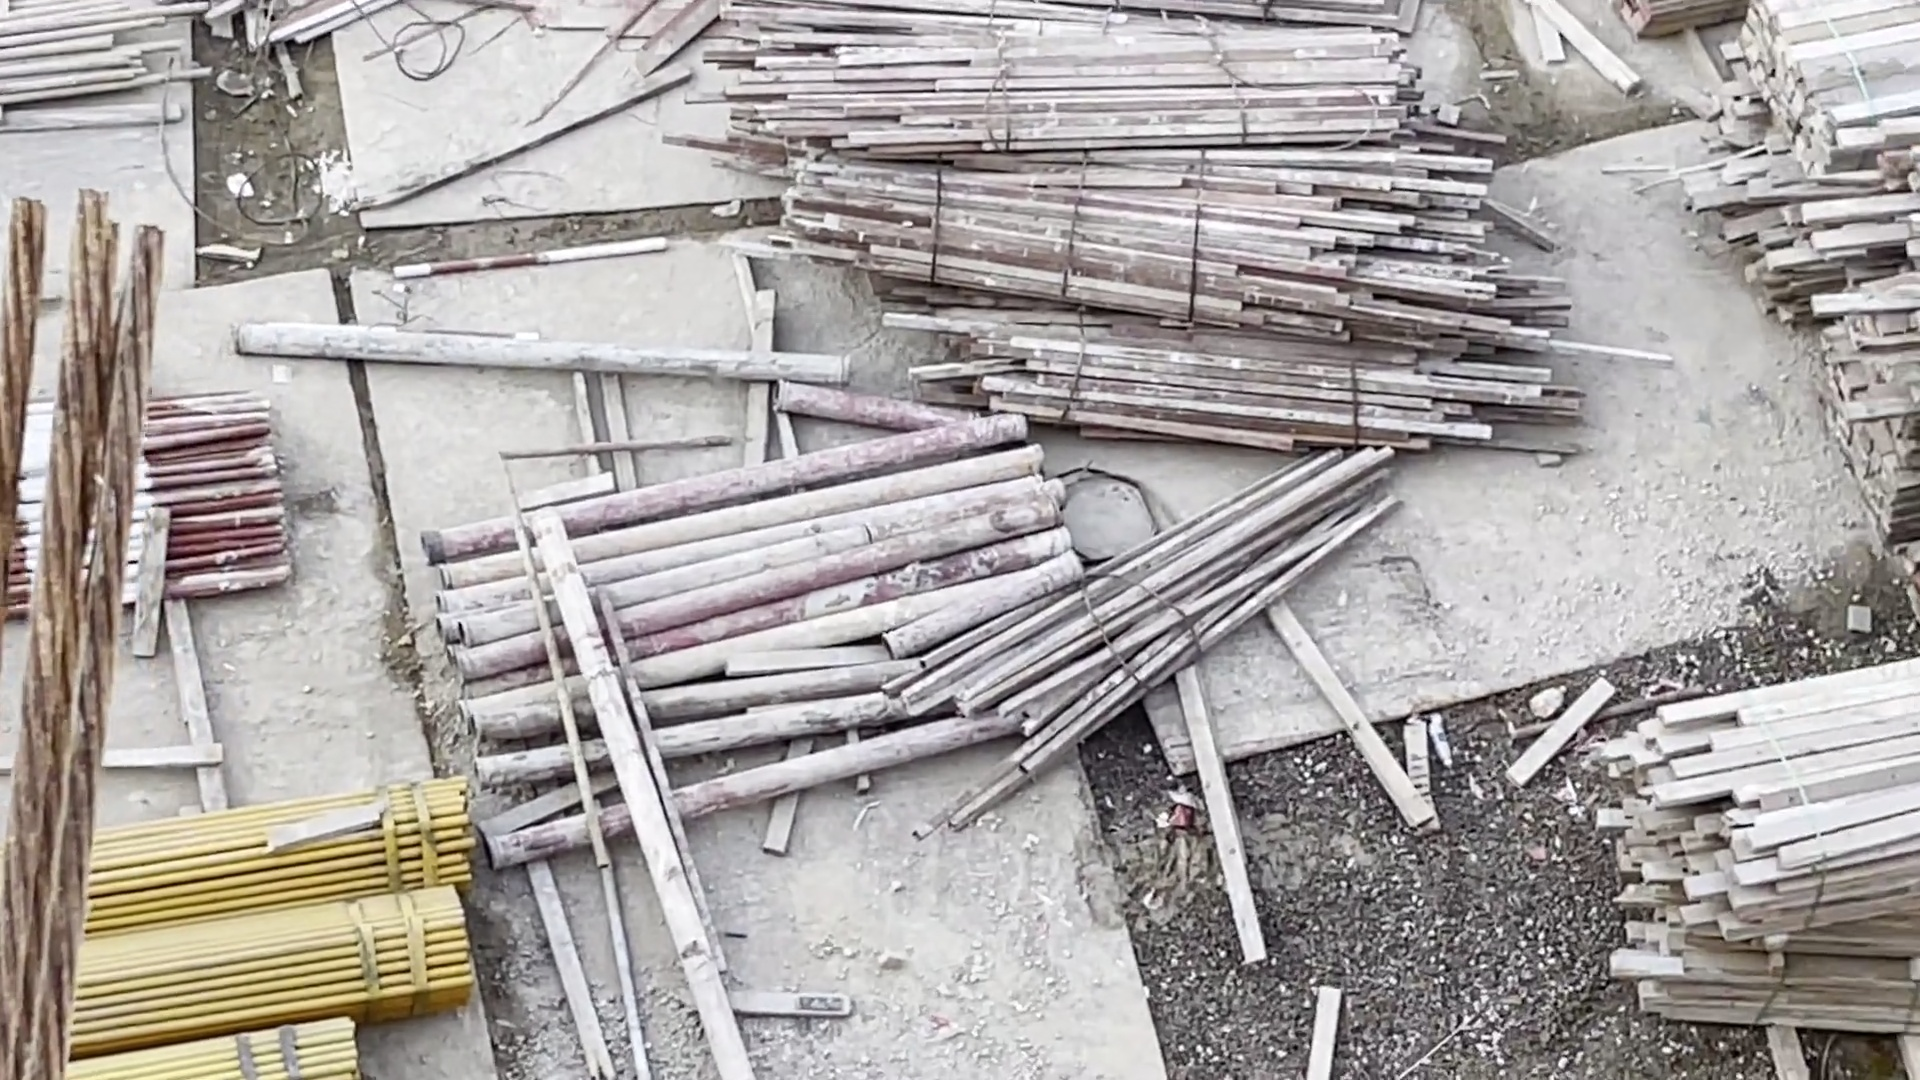scaffold: (435, 440, 1042, 825)
wood: (717, 1, 1468, 458), (996, 471, 1395, 785), (1706, 3, 1920, 550), (1619, 684, 1920, 1023)
